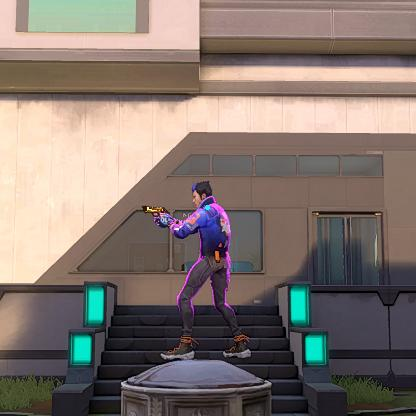enemyBody: (201, 209, 228, 251)
enemyHead: (191, 187, 209, 203)
